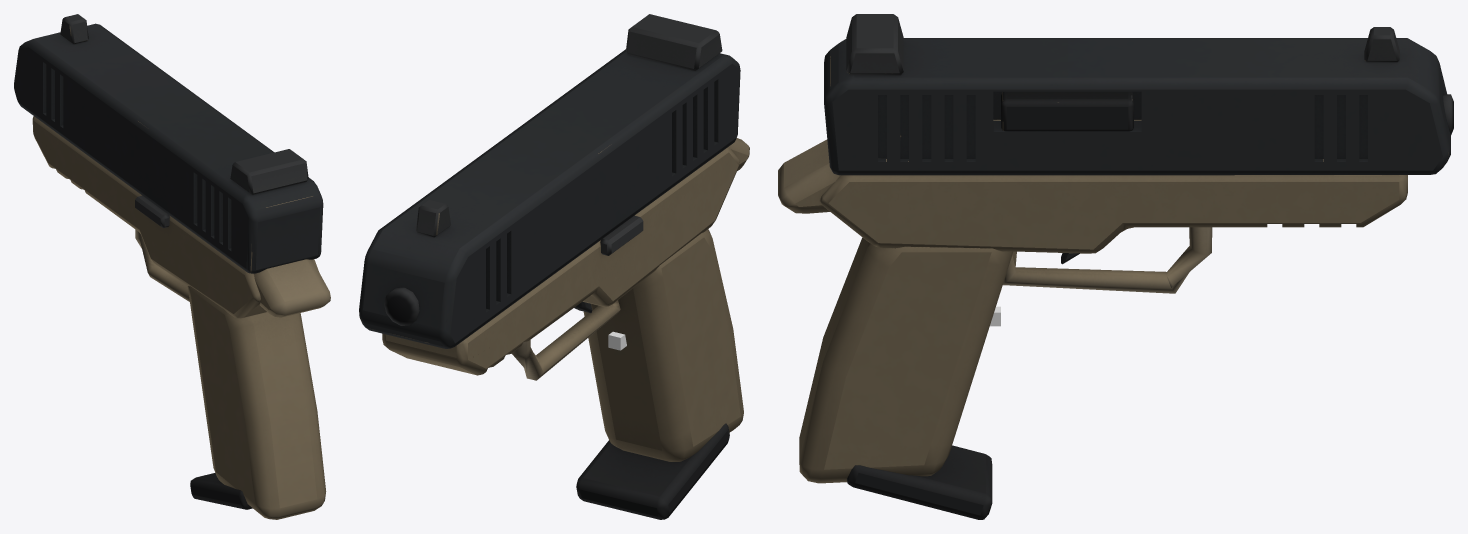
3 renders of one model, left to right at view 1: azimuth 30°, elevation 25°; view 2: azimuth 150°, elevation 25°; view 3: azimuth 270°, elevation 25°, orthographic. The views are drawn at different scales.
Parts seen in each view (by area): view 1: P11_body, P11_mag; view 2: P11_body, P11_mag; view 3: P11_body, P11_mag.
Part boxes in pixels (x1,y1,x2,y2): P11_body: (14, 14, 330, 519); P11_mag: (190, 473, 252, 509); P11_body: (359, 14, 749, 461); P11_mag: (576, 423, 729, 519); P11_body: (778, 14, 1453, 483); P11_mag: (847, 445, 992, 519).
Bounding box in the file's own units: 0.16 × 0.6985 × 0.913.
1 material, 1 textured.
